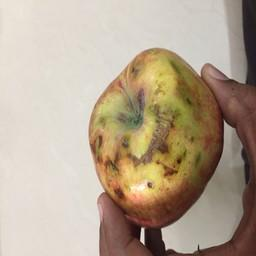Bad_apple: (88, 40, 229, 232)
